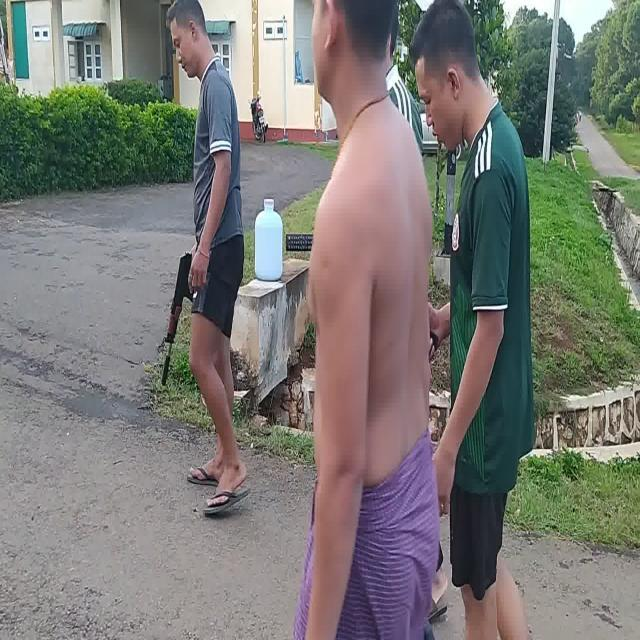gun: (161, 255, 194, 387)
